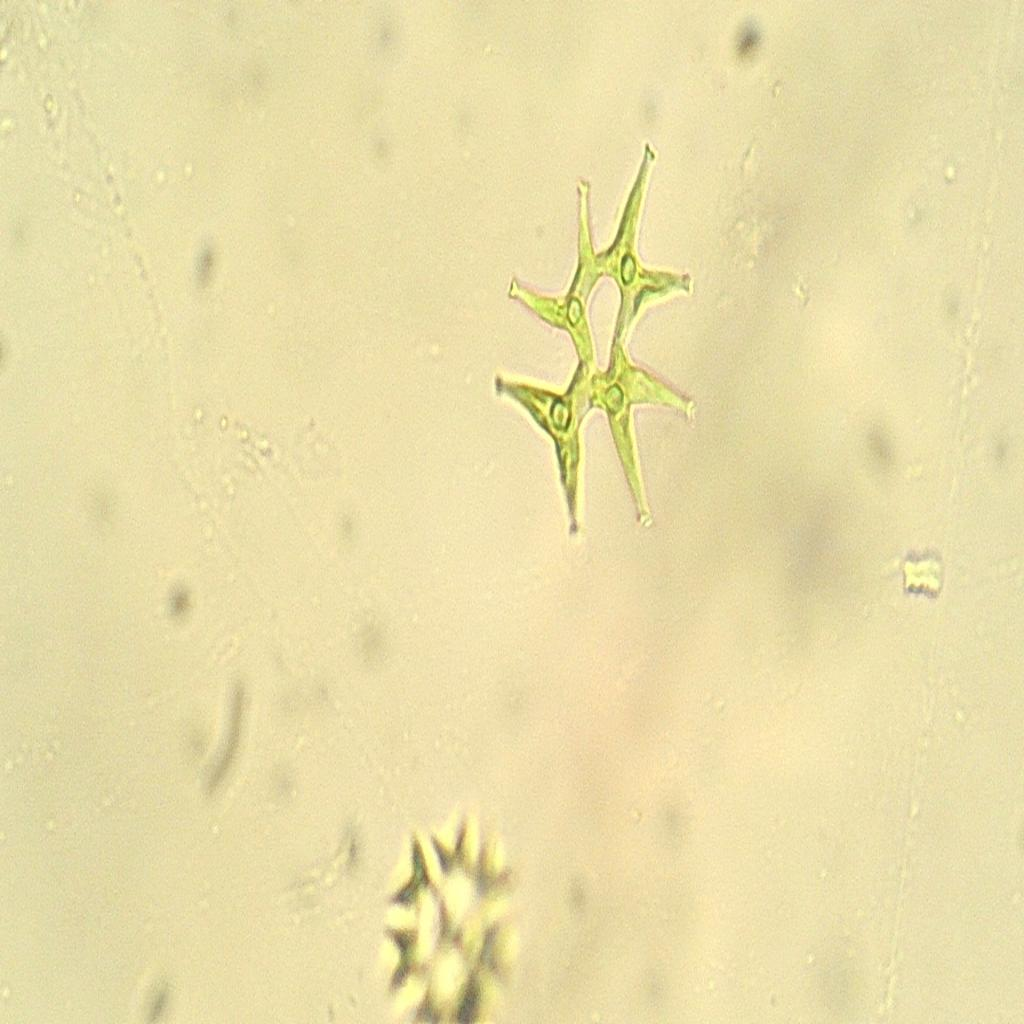Pediastrum_75FI: (485, 121, 709, 577)
